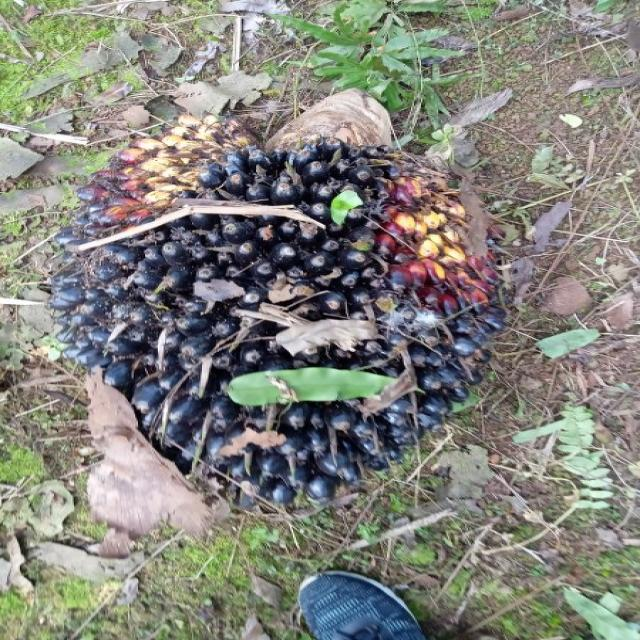fraksi 00: (0, 62, 605, 560)
